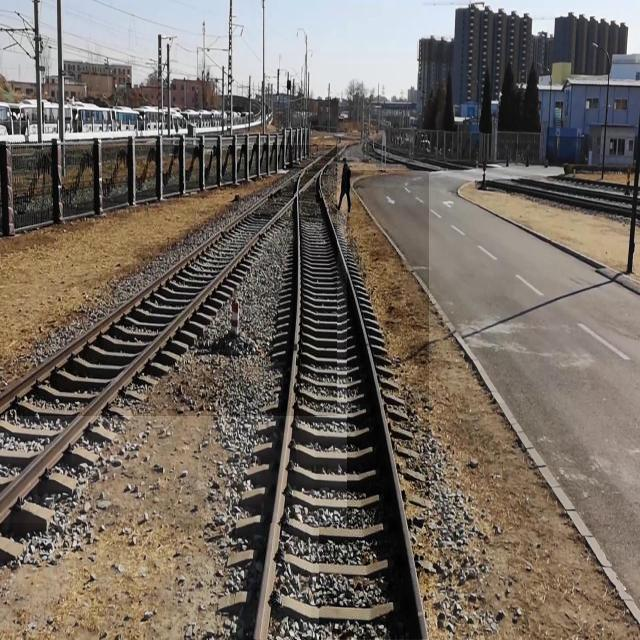rail: (1, 144, 348, 524), (1, 147, 338, 417), (321, 172, 430, 640), (255, 172, 306, 640)
